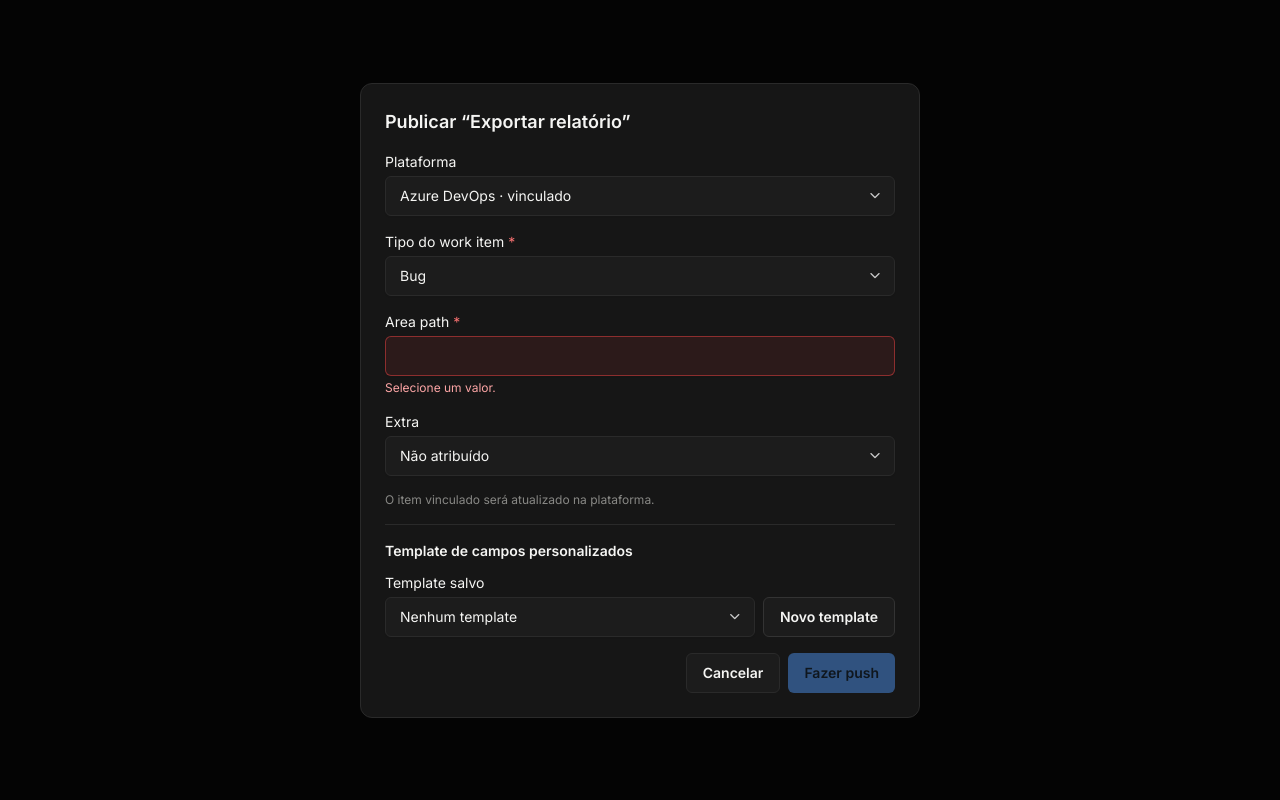
Scenario: PbiPushDialog field templates › ignores previews that finish after the template changed
Select "Campos do Azure" in the dropdown labelled "Template salvo": (570, 616) [385,596,755,636]
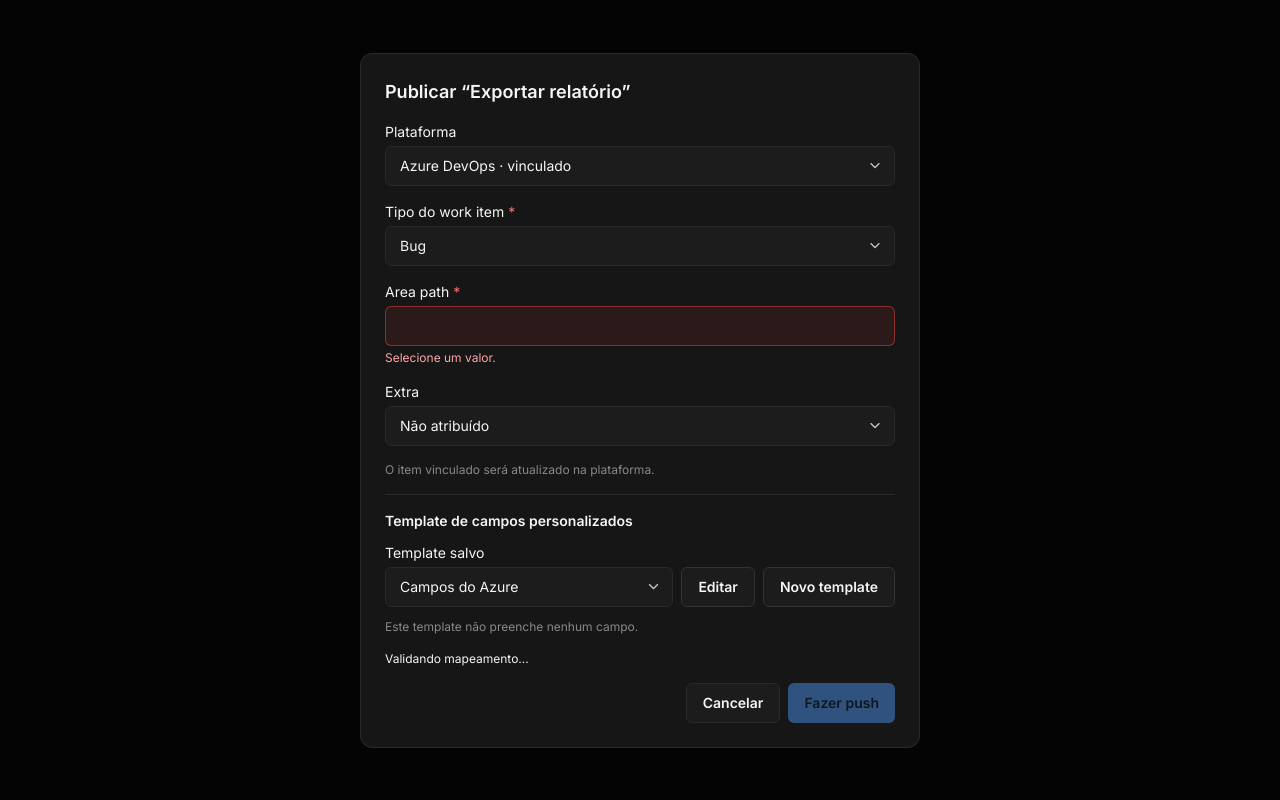
Select "Nenhum template" in the dropdown labelled "Template salvo": (529, 586) [385,566,673,606]
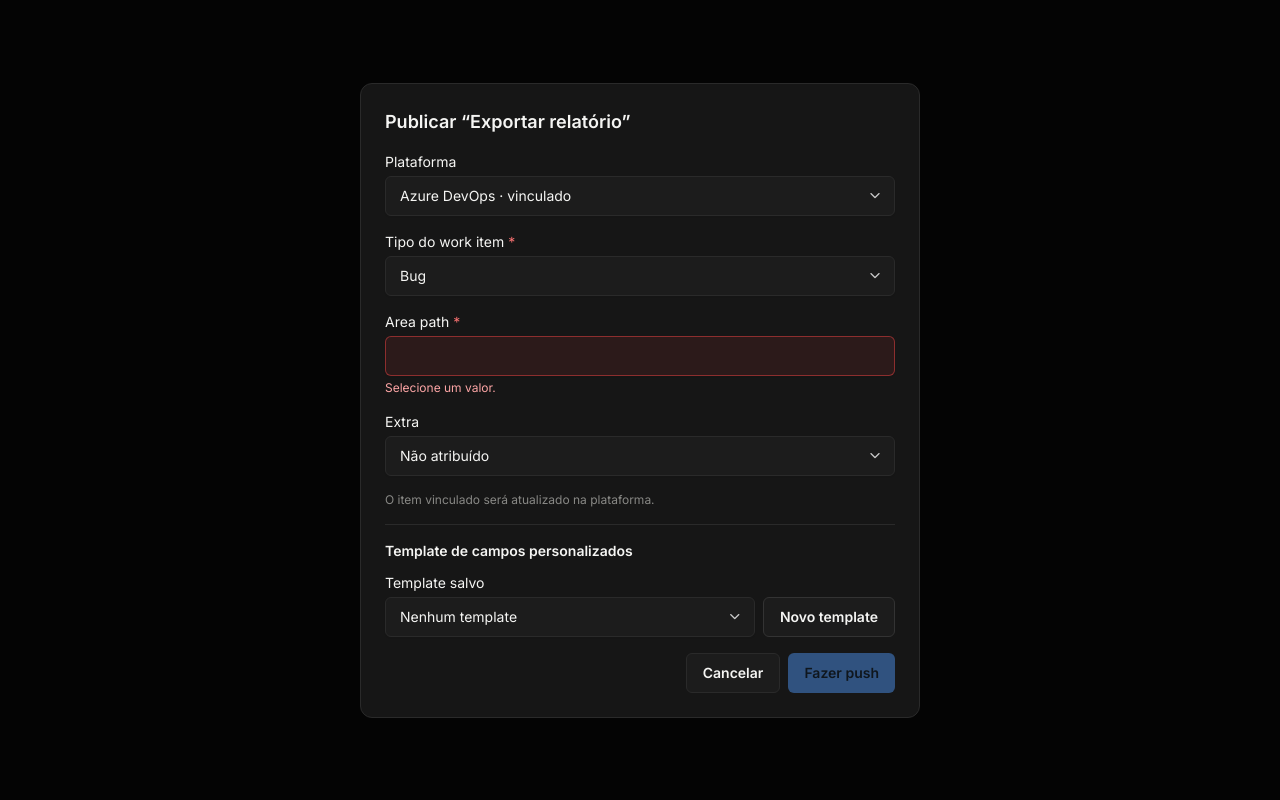
expect the text "Validando mapeamento..." is gone: met
Select "Campos do Azure" in the dropdown labelled "Template salvo": (570, 616) [385,596,755,636]
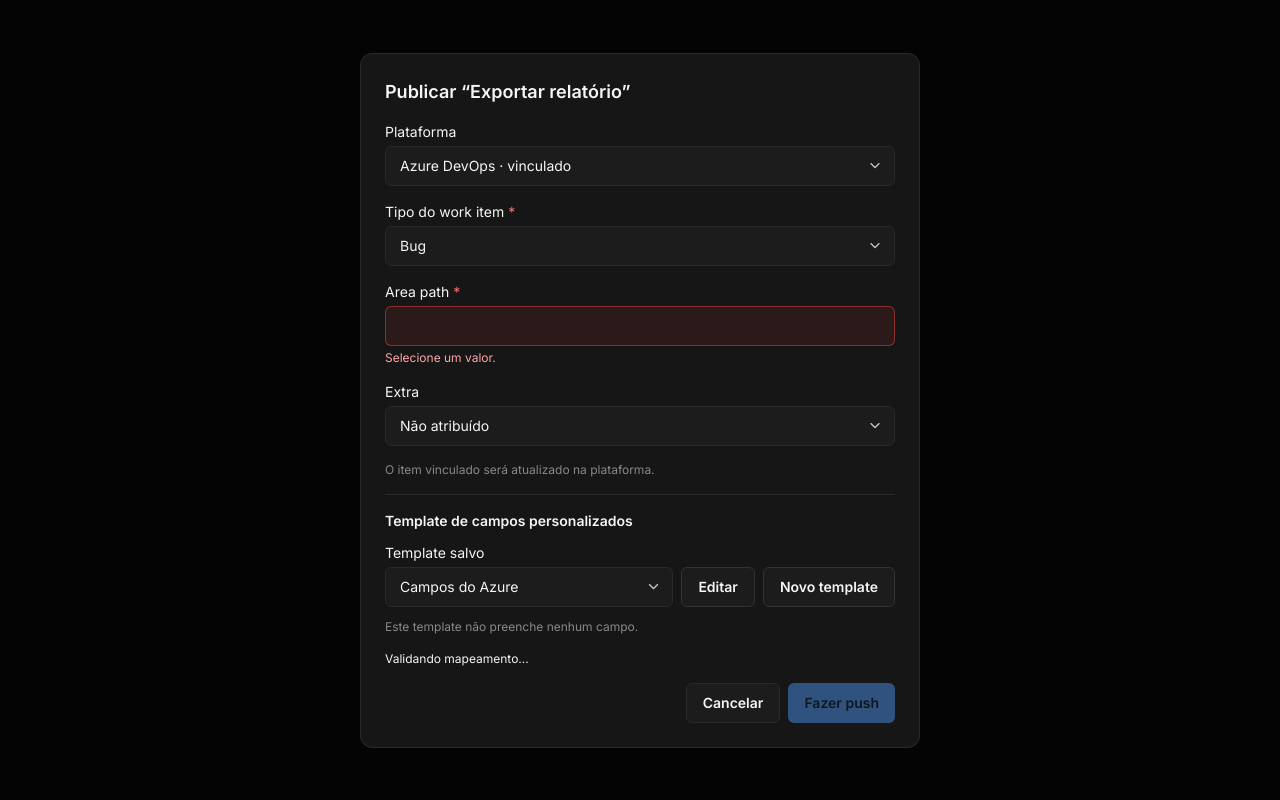
Select "Nenhum template" in the dropdown labelled "Template salvo": (529, 586) [385,566,673,606]
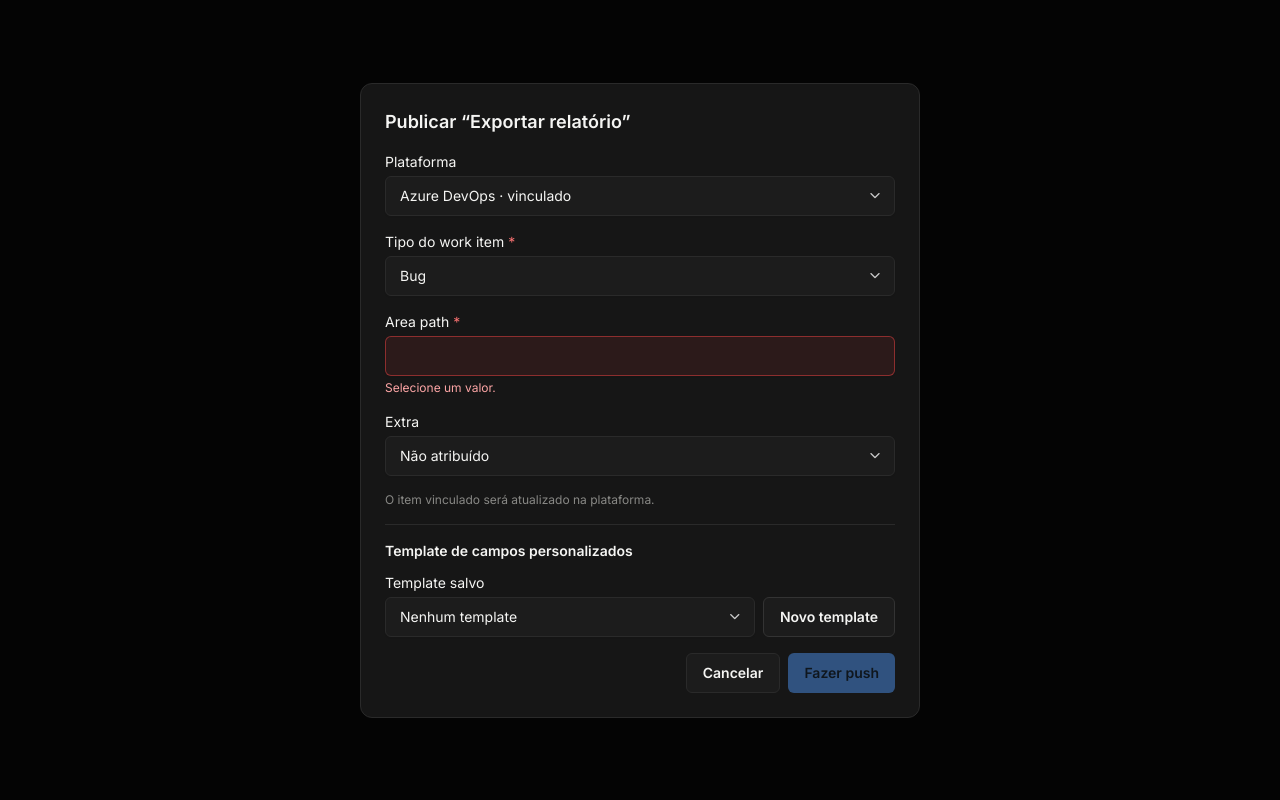
expect the text "Validando mapeamento..." is gone: met
